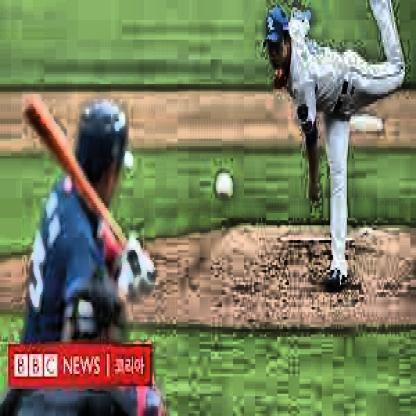baseball: (215, 170, 235, 202)
